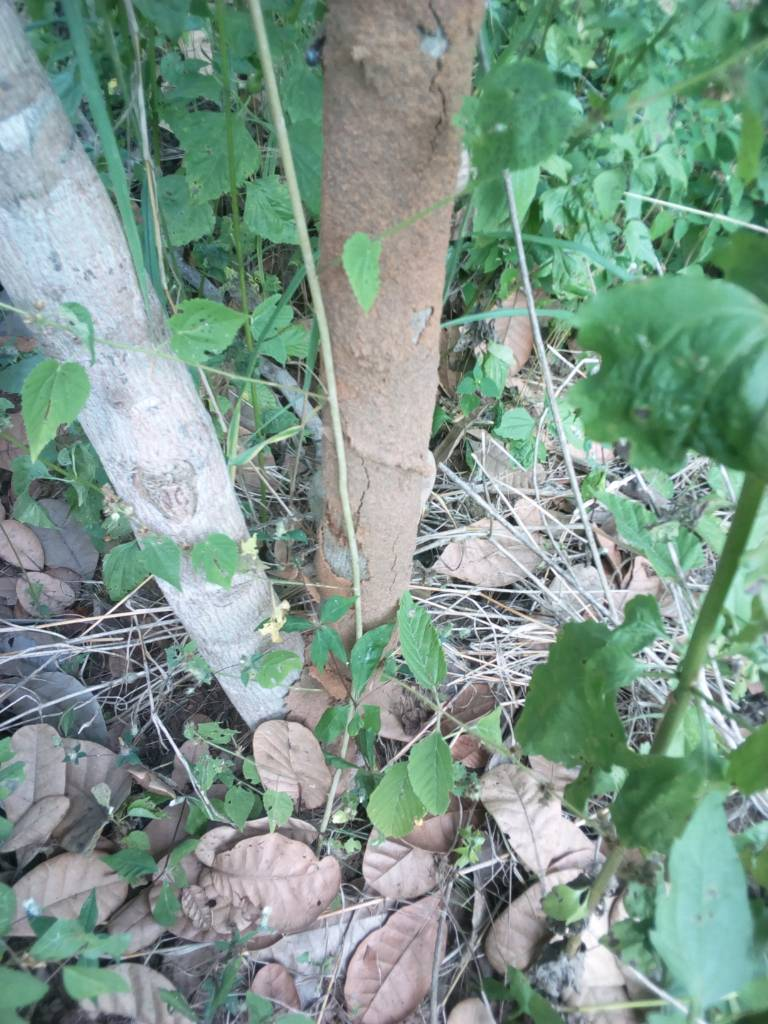Termites: (327, 3, 454, 608)
